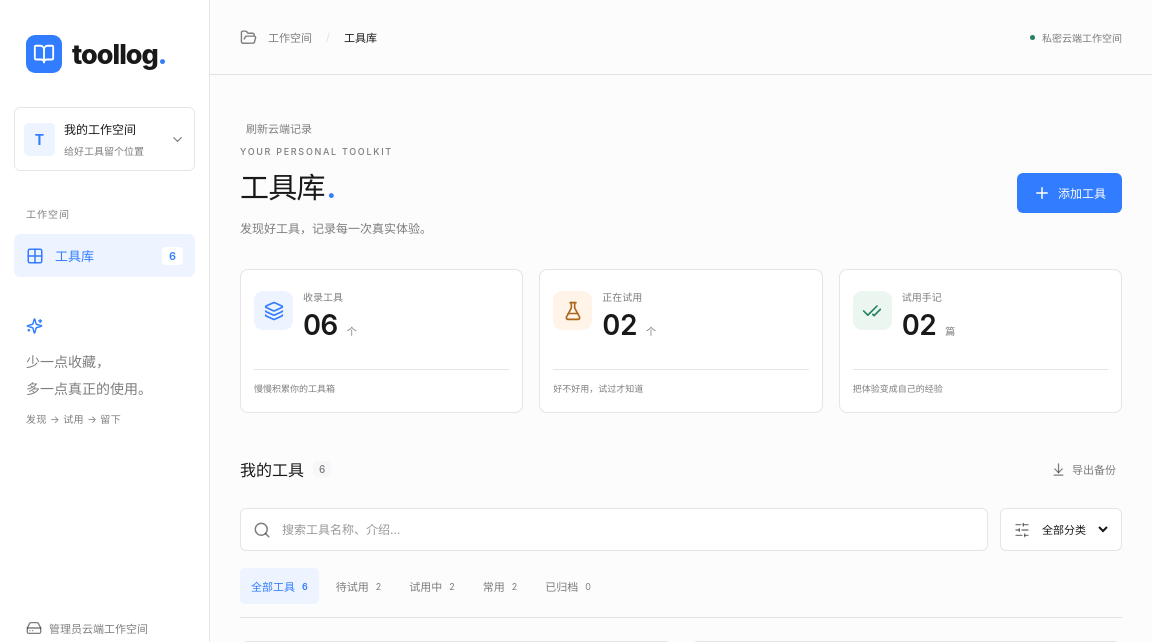
it: refreshes cloud exports and refuses to export stale cache on a network failure
The image size is (1152, 642).
Click the button "导出备份".
click(1084, 469)  # box [1045,451,1122,487]
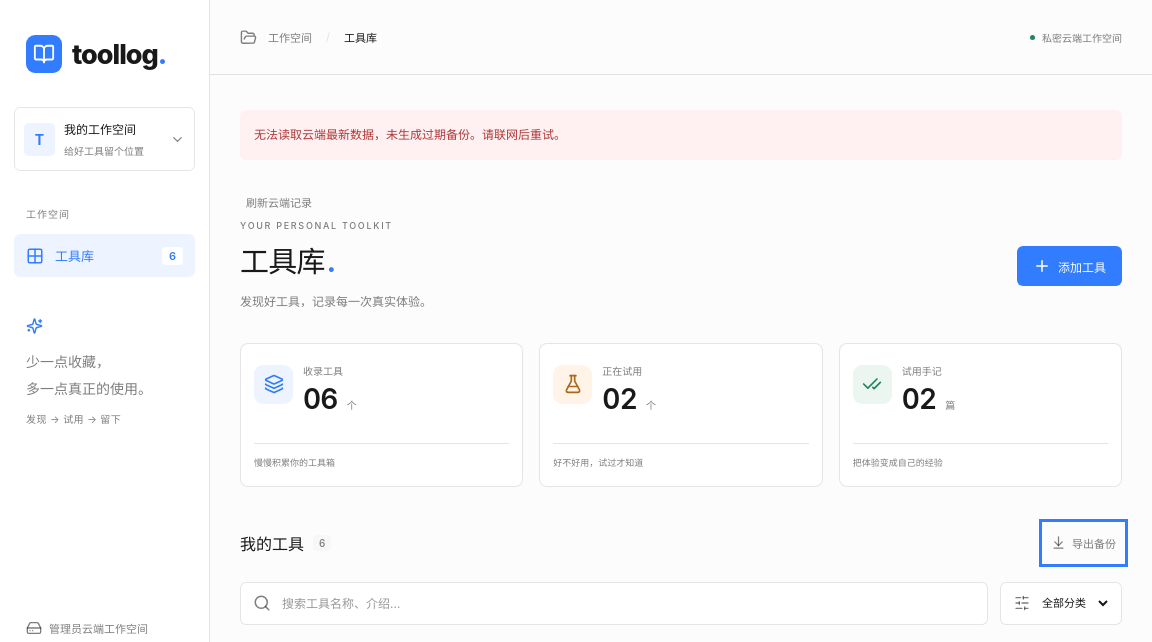
Expected: the message shows "未生成过期备份", [254,127,566,142]
